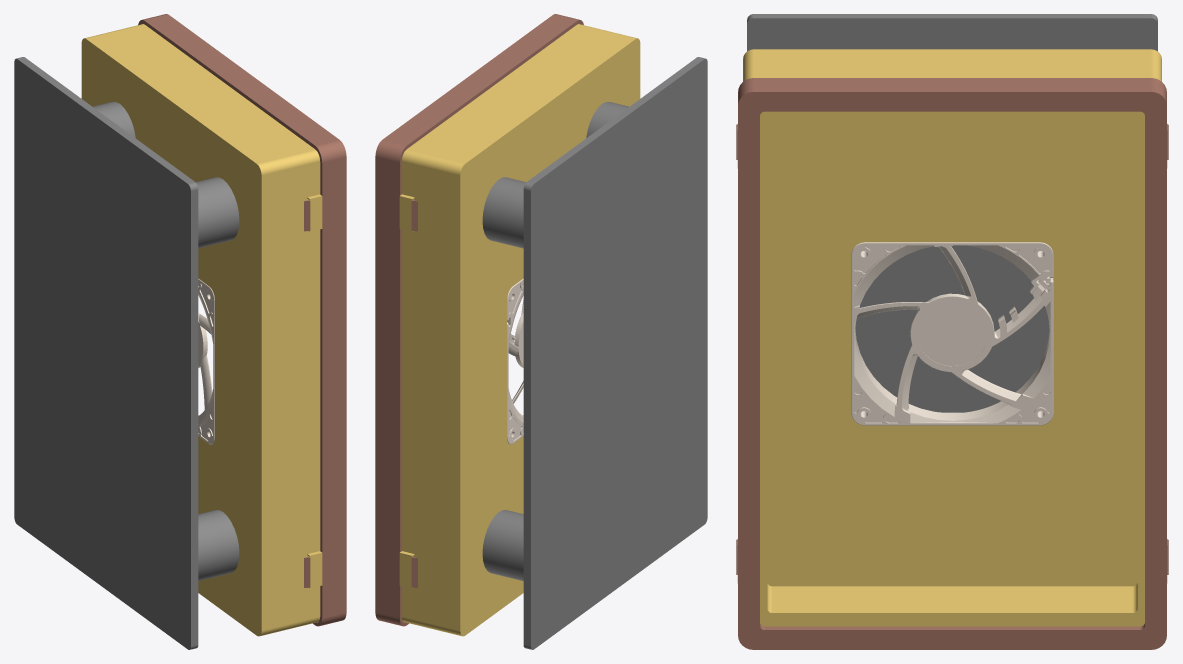
The model's file is razer.glb.
The picture shows the model from 3 angles, left to right: view 1: azimuth 30°, elevation 25°; view 2: azimuth 150°, elevation 25°; view 3: azimuth 270°, elevation 25°; orthographic projection. The views are drawn at different scales.
Parts seen in each view (by area): view 1: Razer Enclosure; view 2: Razer Enclosure; view 3: Razer Enclosure.
Boxes of the visible parts, <box> form: Razer Enclosure: <box>14,14,346,649</box>; Razer Enclosure: <box>375,14,707,649</box>; Razer Enclosure: <box>736,14,1168,649</box>.
Size of the model in its own units: 12.11 by 36.58 by 25.69.
